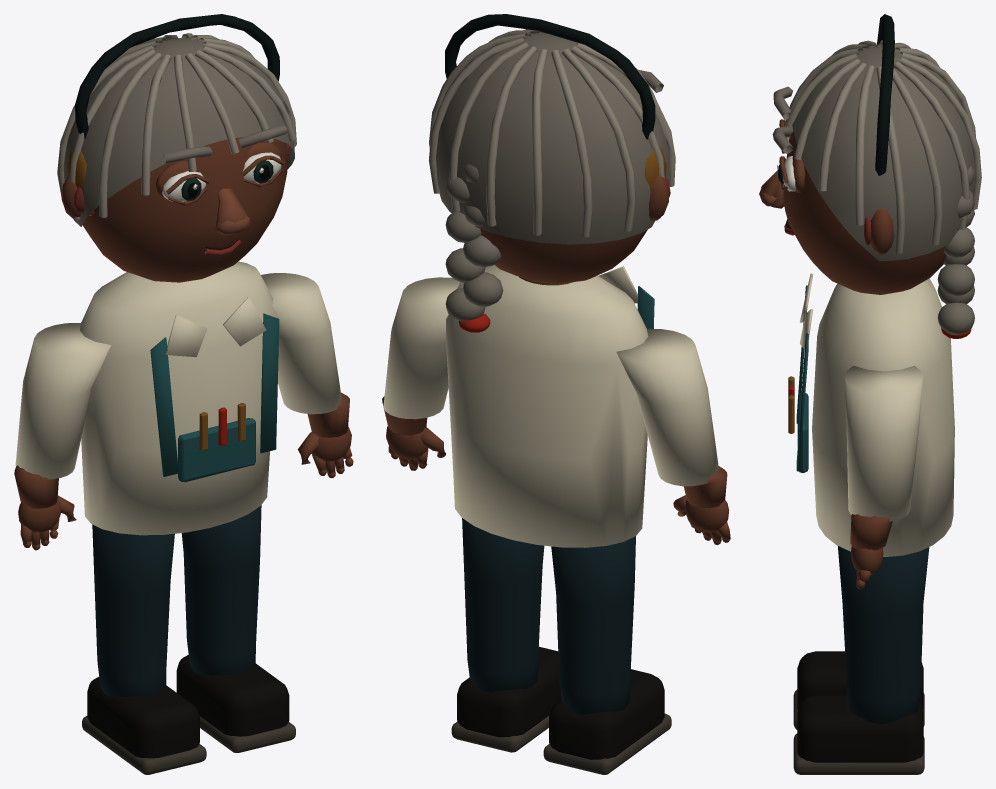
The model's file is technician-05.glb.
3 views of the same model, side by side, from view 1: azimuth 30°, elevation 25°; view 2: azimuth 150°, elevation 25°; view 3: azimuth 270°, elevation 25° (orthographic). The views are drawn at different scales.
Parts seen in each view (by area): view 1: Head, Body, LegL, LegR, ArmL, ArmR; view 2: Body, Head, LegL, LegR, ArmL, ArmR; view 3: Head, Body, LegR, ArmR, LegL.
Part boxes in pixels (x1=…): Head: x1=57, y1=14, x2=296, y2=282; Body: x1=80, y1=238, x2=279, y2=535; LegL: x1=82, y1=524, x2=206, y2=774; LegR: x1=176, y1=505, x2=295, y2=752; ArmL: x1=14, y1=323, x2=111, y2=550; ArmR: x1=261, y1=273, x2=353, y2=478; Body: x1=445, y1=211, x2=654, y2=547; Head: x1=429, y1=14, x2=675, y2=283; LegL: x1=543, y1=536, x2=671, y2=774; LegR: x1=451, y1=518, x2=561, y2=752; ArmL: x1=616, y1=328, x2=730, y2=544; ArmR: x1=382, y1=277, x2=460, y2=470; Head: x1=759, y1=14, x2=981, y2=294; Body: x1=784, y1=219, x2=974, y2=556; LegR: x1=793, y1=546, x2=929, y2=774; ArmR: x1=844, y1=366, x2=923, y2=589; LegL: x1=793, y1=651, x2=924, y2=729.
Size of the model in its own units: 0.6391 by 1.3 by 0.3719.
